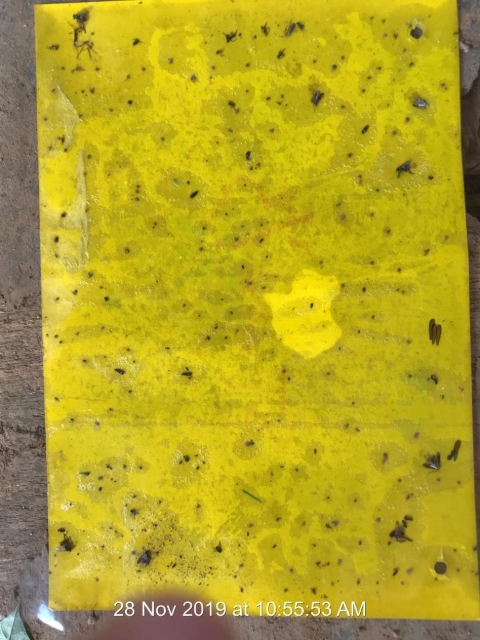DBM: (420, 450, 445, 477), (411, 96, 432, 112), (310, 88, 325, 108), (280, 20, 296, 38)
